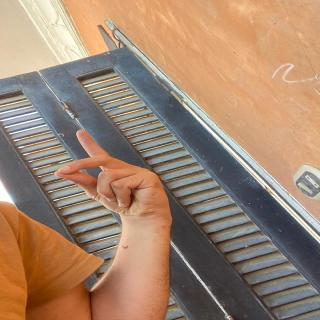TAA: (54, 125, 182, 223)
